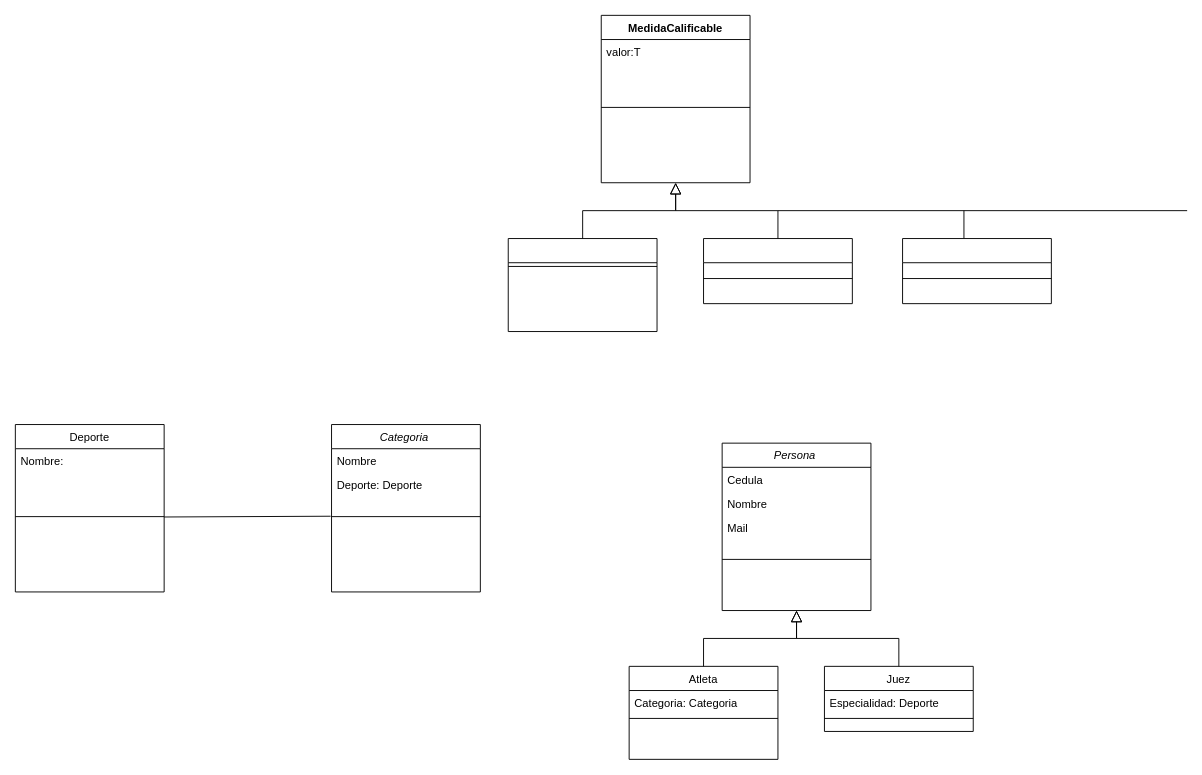
Some shapes in this 1202 by 775 pixel diagram are drawn without their labels. Each missing label, with the centre of its shape:
"Distancia" goes at [777,271].
"Tecnica" goes at [582,285].
"Tiempo" goes at [976,271].
